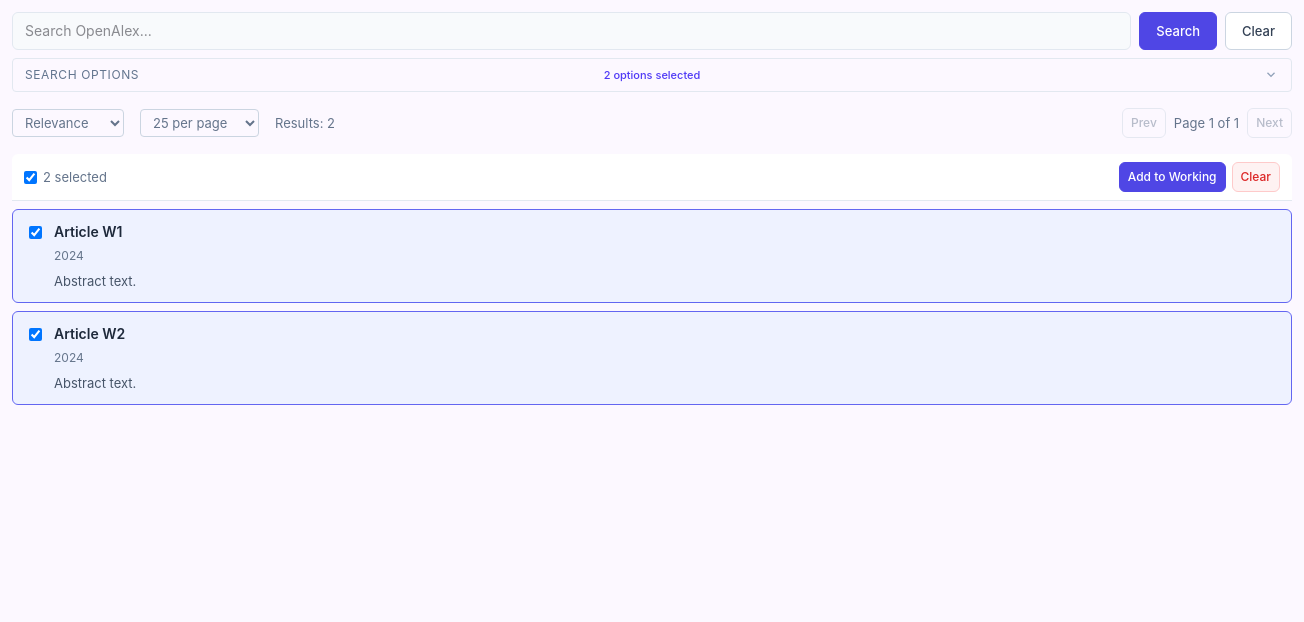
it: openalex-search.vue - Search Options panel › collapsed header shows the active-option count when options are active
Expected: the text with class "options-header__count" reads "2 options selected", [604, 68, 700, 82]
# Expanding hides the count and flips aria-expanded.
Click the button with class "options-header": [652, 75] box [13, 59, 1291, 91]
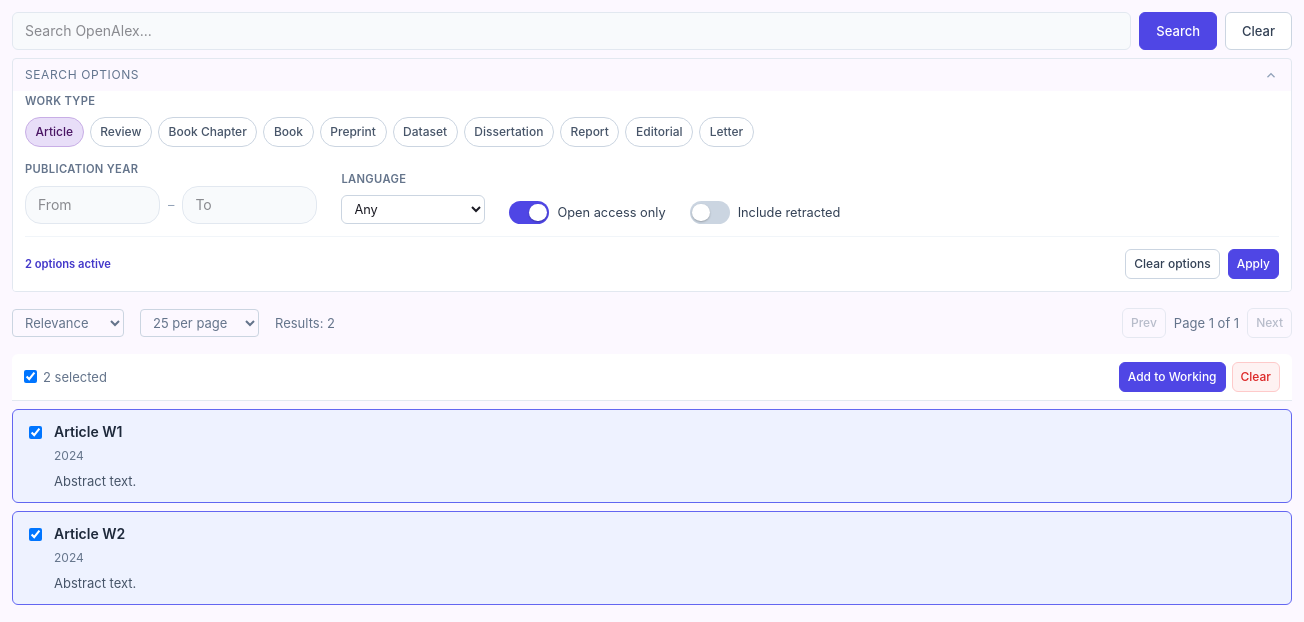
Expected: the button with class "options-header" is expanded, [13, 59, 1291, 91]
